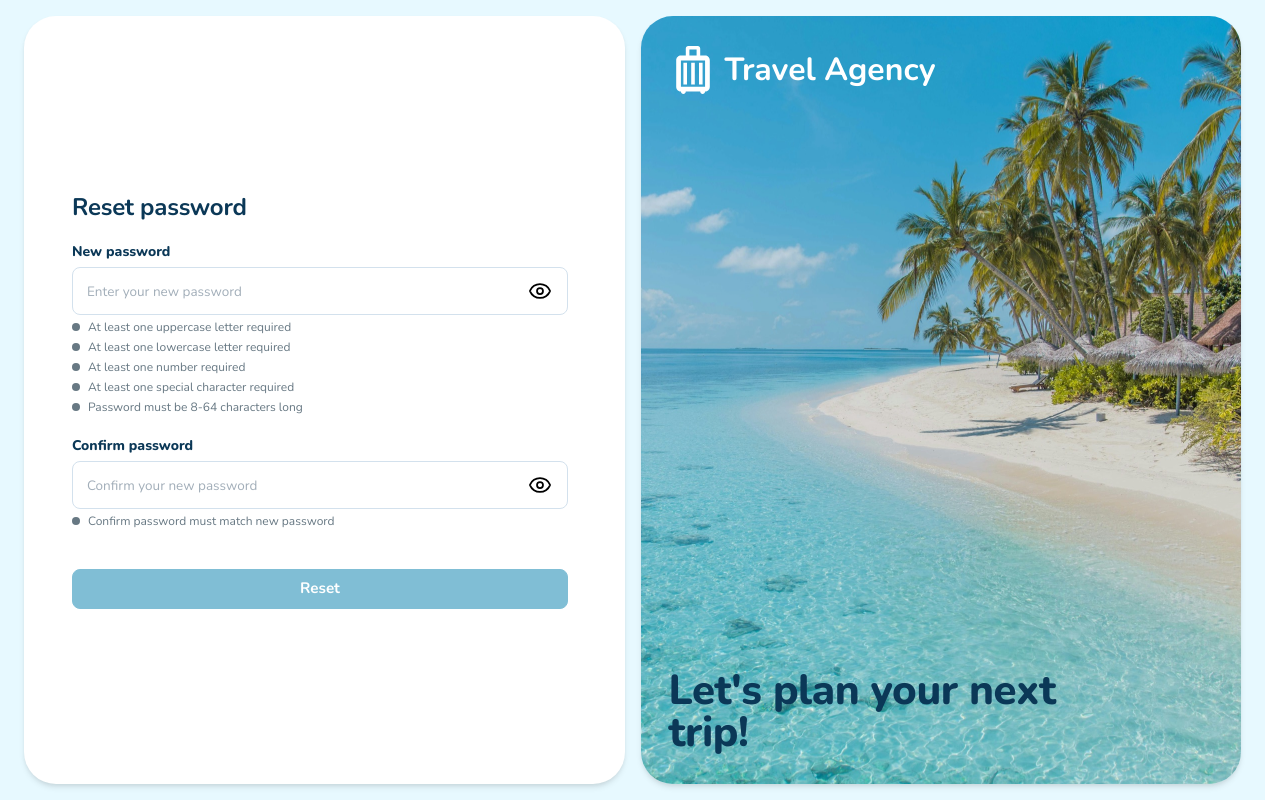
NewPasswordScreen Component › displays inline error message on ApiError 400 invalid code/password response
Type "NewSecret123!" into the password field labelled "New password".
click(320, 291); type("NewSecret123!")  # box [72,267,568,315]
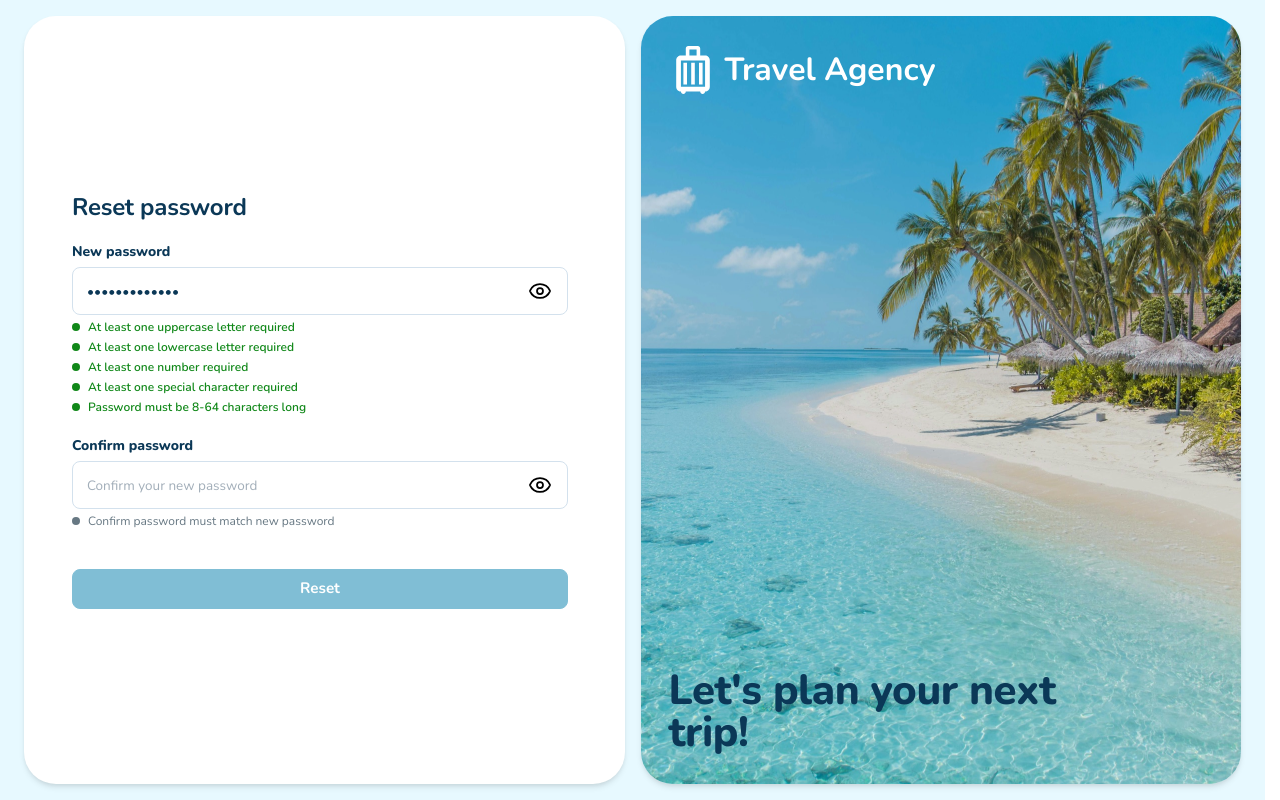
Type "NewSecret123!" into the password field labelled "Confirm password".
click(320, 485); type("NewSecret123!")  # box [72,461,568,509]
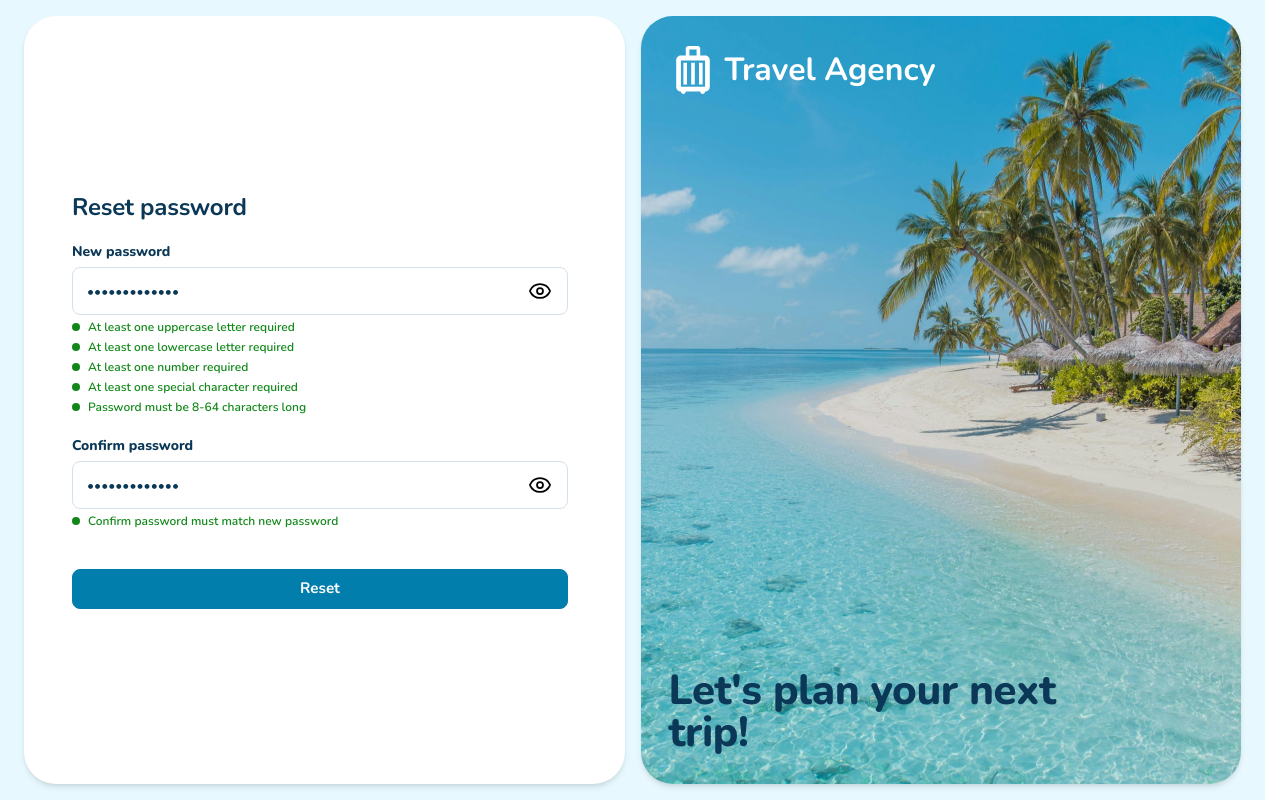
Click the button "Reset".
click(320, 589)  # box [72,569,568,609]
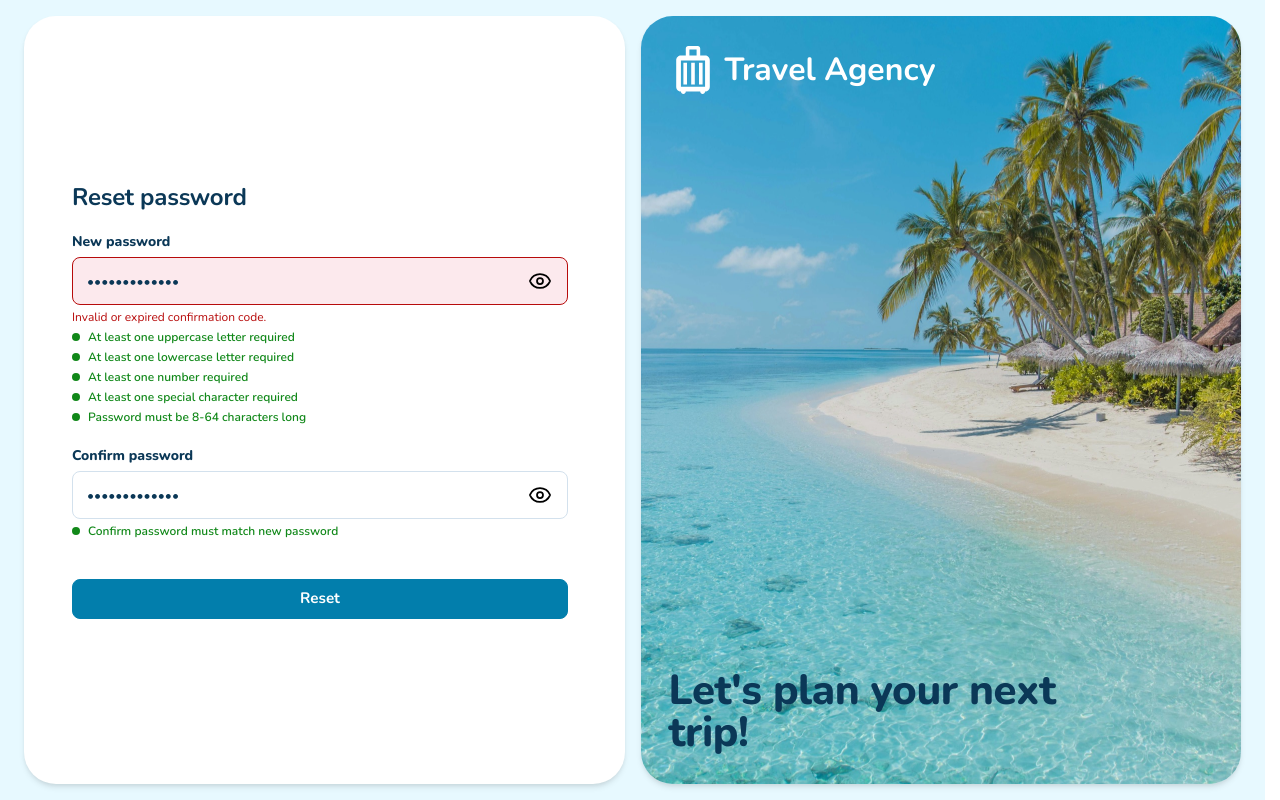
Expected: the message reads "Invalid or expired confirmation code.", [72,309,266,325]
